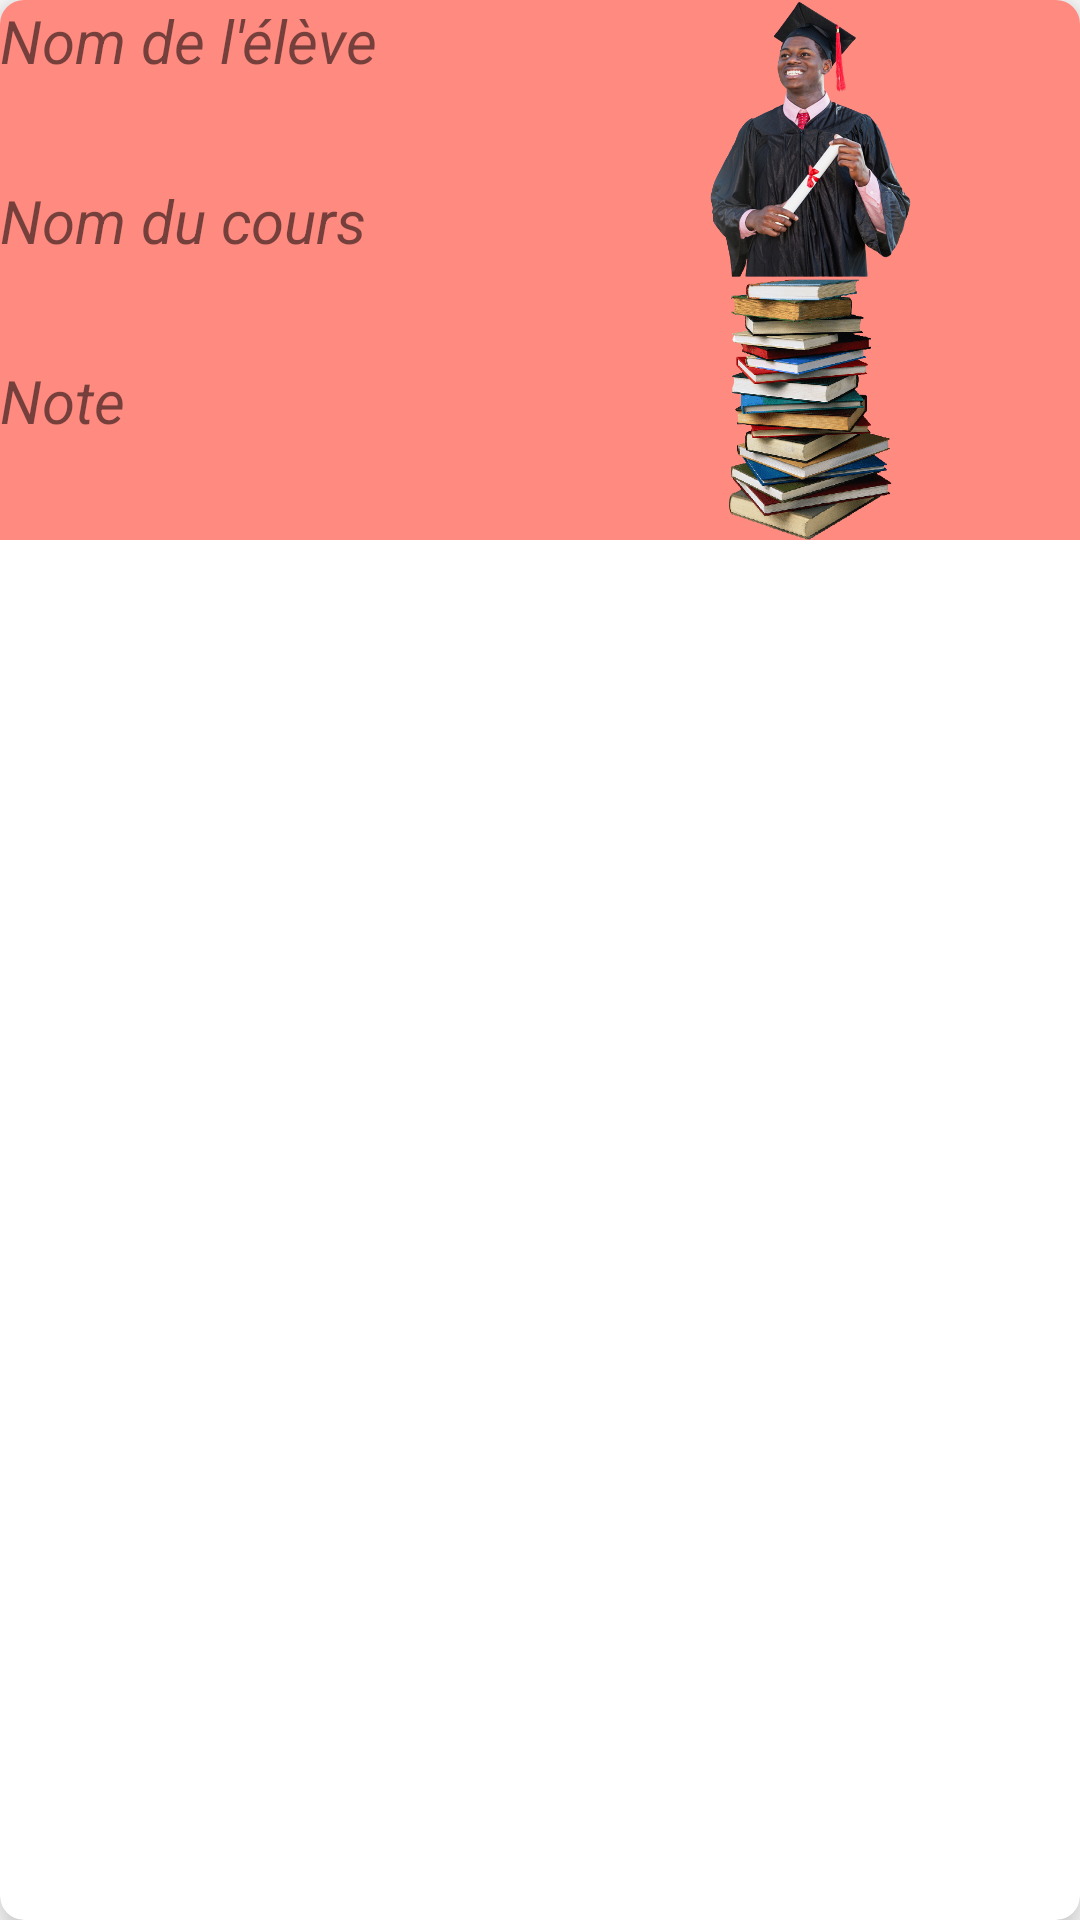

Where icons sit on this 1080*1920 app screen, as {"x1": x1, "y1": y1, "x2": x2, "y2": y2}:
books: {"x1": 729, "y1": 279, "x2": 892, "y2": 540}
